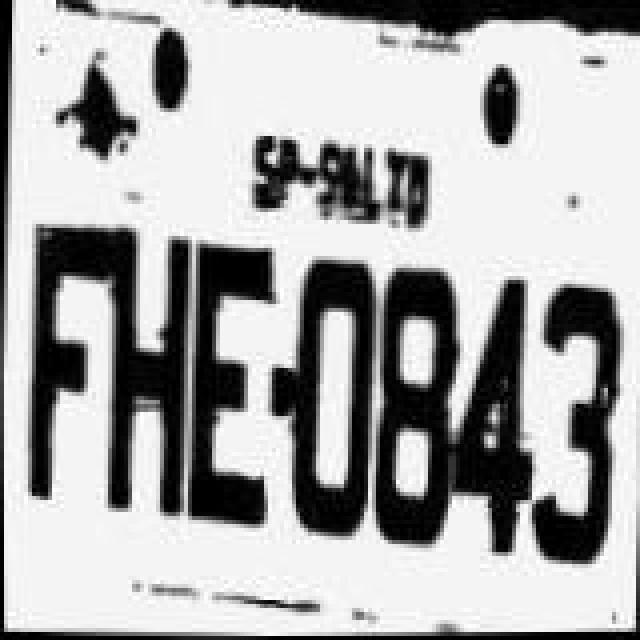3: (524, 258, 624, 570)
4: (444, 256, 544, 560)
8: (368, 246, 464, 554)
E: (174, 224, 282, 532)
F: (16, 204, 112, 508)
H: (98, 216, 190, 520)
O: (284, 234, 380, 542)
